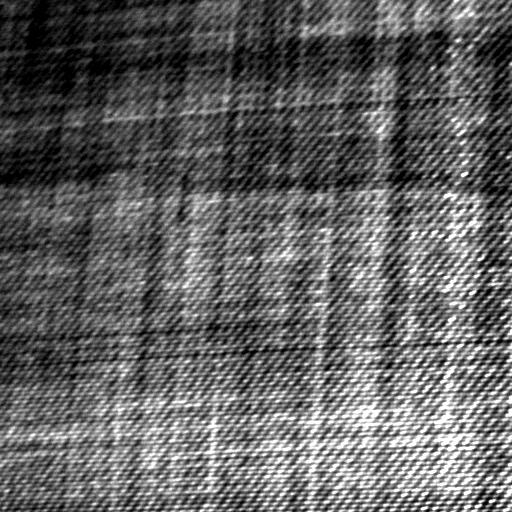fabric_perfect: (2, 2, 510, 508)
